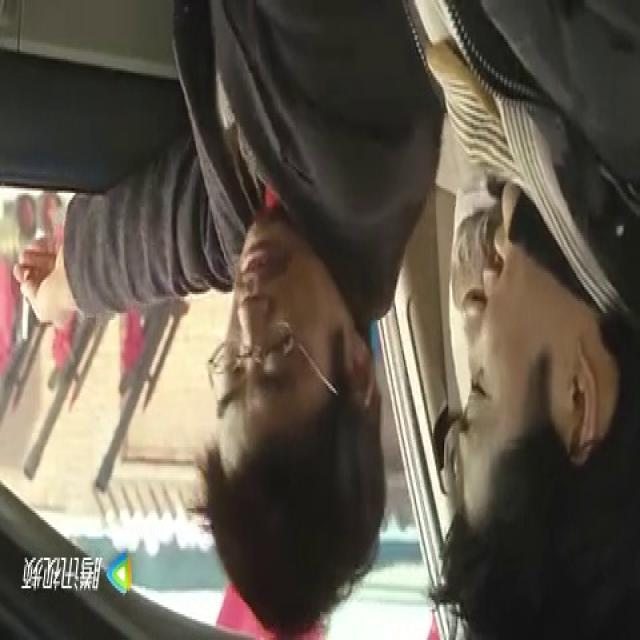smoke: (20, 268, 39, 353)
